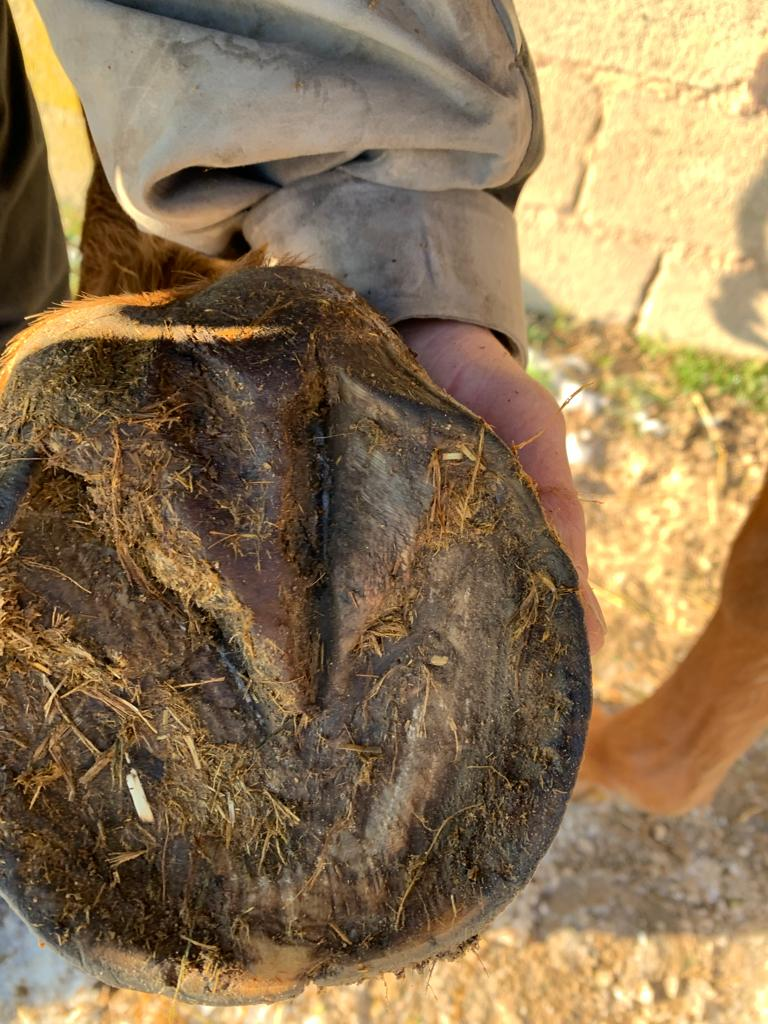horsesole: (1, 366, 592, 1007)
